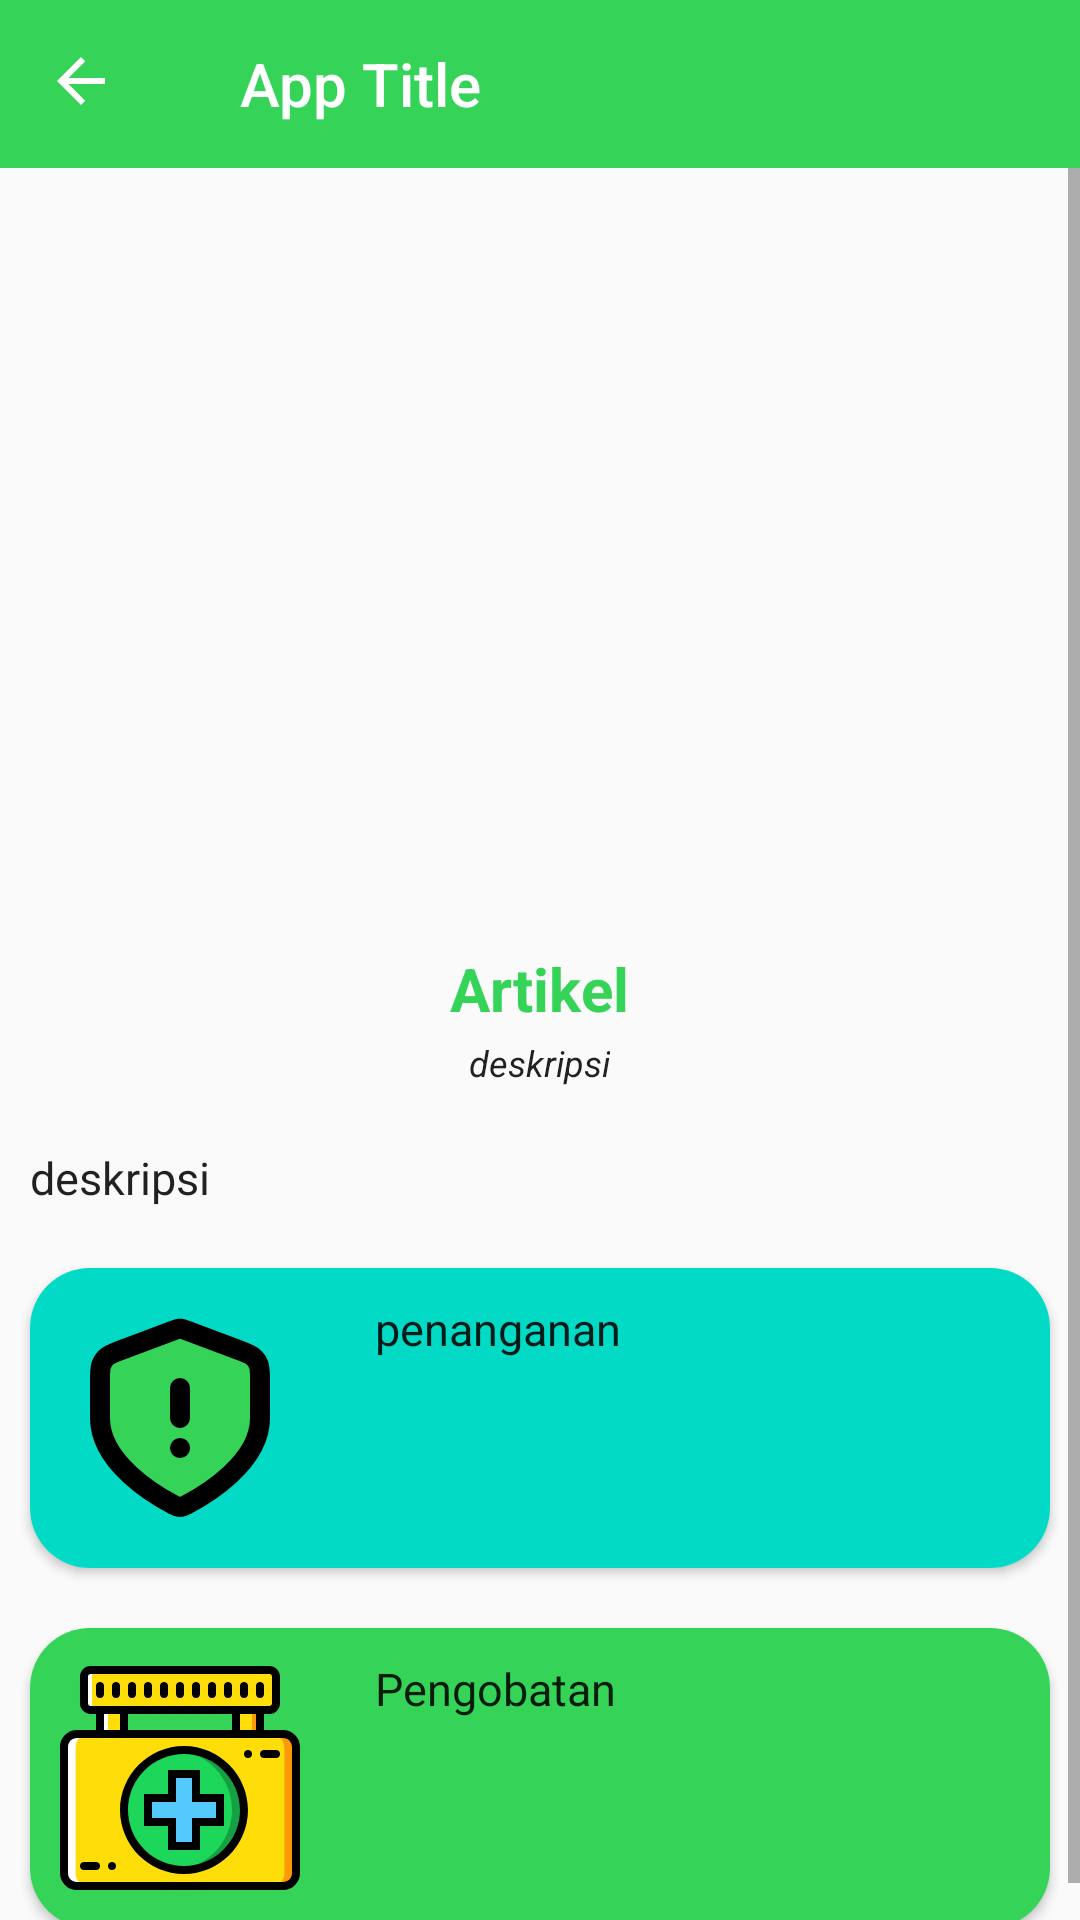

Icons on this 1080 × 1920 Android screen, each with its box as (x1, y1, x2, y2):
backbutton: (57, 57, 105, 105)
